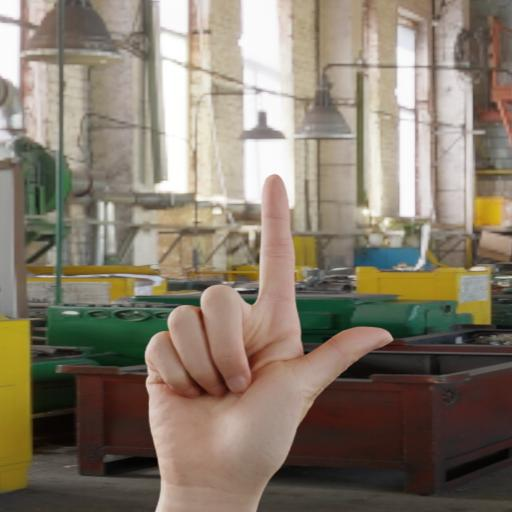L: (115, 168, 402, 512)
